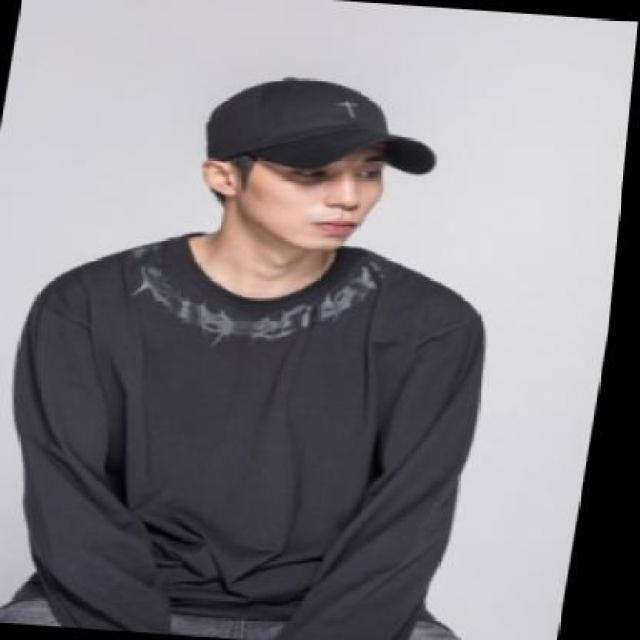hat: (206, 72, 451, 183)
